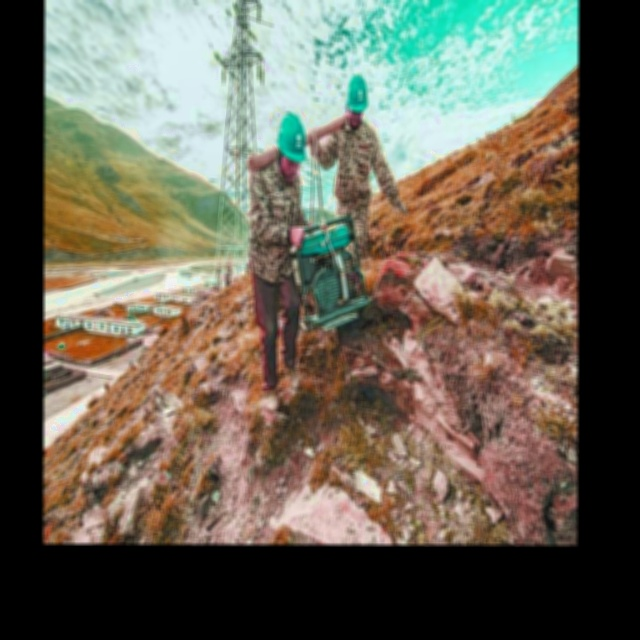Con_Casco: (277, 110, 306, 172), (346, 73, 368, 123)
